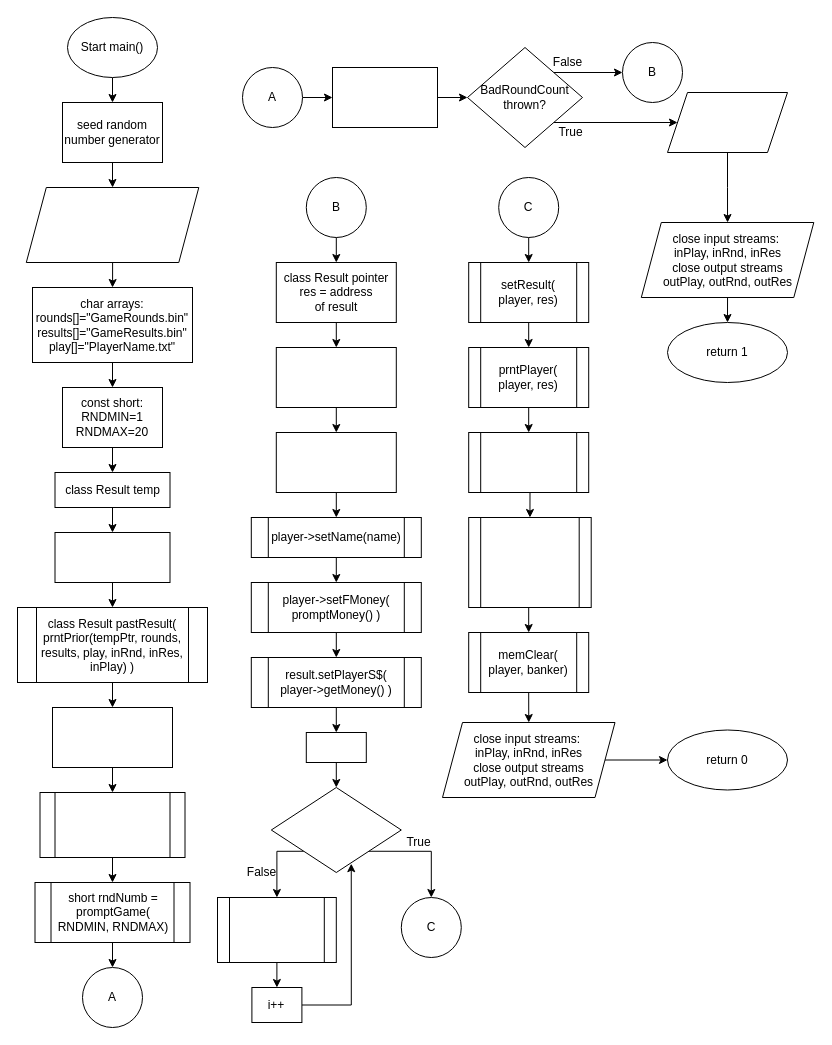
Some shapes in this 832 by 1045 pixel diagram are drawn without their labels. Here are the shapes that lost their labels. From the top down, the centre of each, then its label:
the point at 385,97: class Result result(rndNumb)
the point at 727,122: Print: "An error has occured!"
the point at 112,224: input streams: inPlay, inRnd, inRes output streams outPlay, outRnd, outRes
the point at 335,377: New Player object: *player
the point at 335,462: New Banker object: *banker
the point at 528,462: prntResult( res, pastRes)
the point at 112,557: class Result pointer tempPtr = address of temp
the point at 529,562: binData( player, res, outRnd, outRes, outPlay, rounds, results, play)
the point at 112,737: class Result pointer pastRes = address of pastResult
the point at 335,747: short i=0
the point at 112,825: char vector name = promptName()
the point at 335,829: i >= result.getRndTot()
the point at 276,929: playBaccarat( player, banker, result.round+1)
